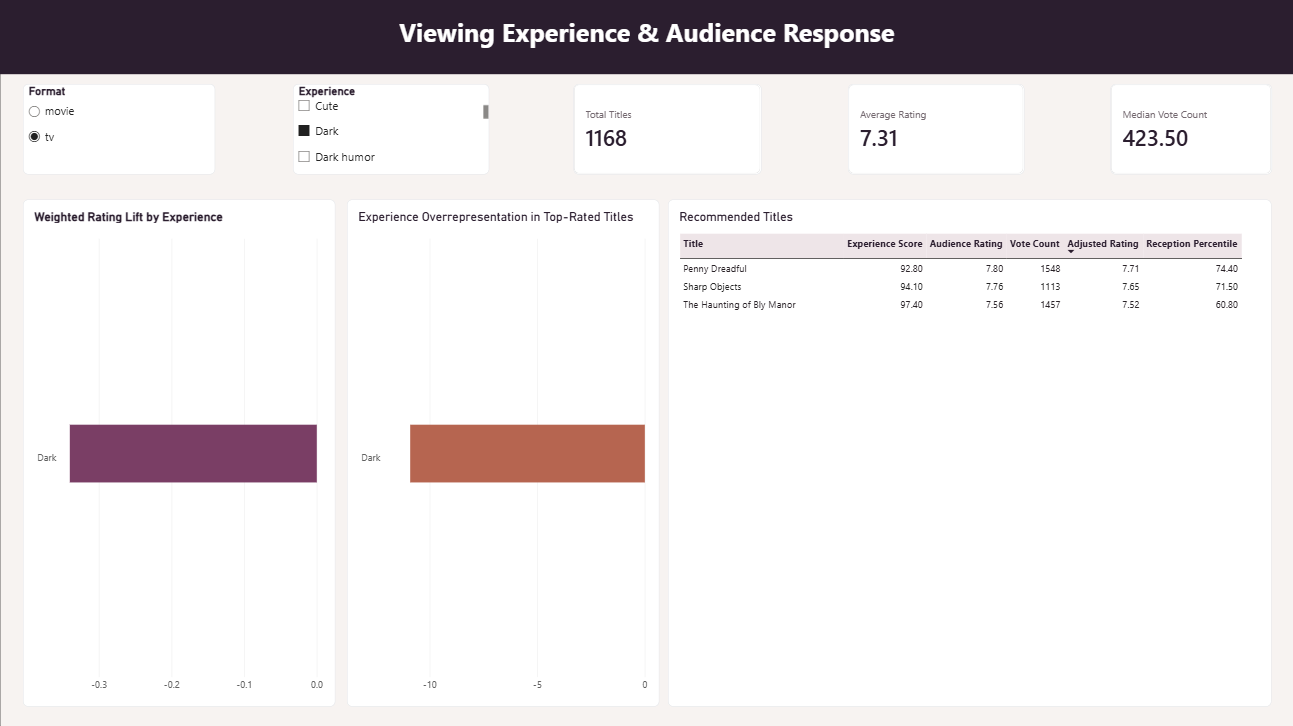

The page's visual inventory and layout, read from the dashboard file:
{"tool":"powerbi","page":{"name":"Audience Response","canvas":[1920,1080],"ordinal":0},"visuals":[{"type":"shape","box":[0,0,1918.2,109.9],"z":0},{"type":"slicer","fields":{"Values":["Media Type.media_type"]},"box":[36.5,124,284.5,134.2],"z":1000},{"type":"slicer","fields":{"Values":["Experience.experience"]},"box":[434.8,124,290.3,134.2],"z":2000},{"type":"cardVisual","fields":{"Data":["Metrics.Total Titles"]},"box":[852,124,278.7,134.2],"z":3000},{"type":"cardVisual","fields":{"Data":["Metrics.Average Rating"]},"box":[1257.6,124,261.2,134.2],"z":4000},{"type":"cardVisual","fields":{"Data":["Metrics.Median Vote Count"]},"box":[1645.7,124,239.3,134.2],"z":5000},{"type":"clusteredBarChart","title":"Weighted Rating Lift by Experience","fields":{"Category":["Experience.experience"],"Y":["Metrics.Weighted Rating Lift"]},"box":[36.5,296.2,462.5,751.4],"z":6000},{"type":"clusteredBarChart","title":"Experience Overrepresentation in Top-Rated Titles","fields":{"Category":["Experience.experience"],"Y":["Metrics.Overrepresentation"]},"box":[514.7,296.6,462.5,751.4],"z":7000},{"type":"tableEx","title":"Recommended Titles","fields":{"Values":["recommendations.title","Metrics.Recommended Experience Score","Metrics.Recommended Audience Rating","Metrics.Recommended Vote Count","Metrics.Recommended Adjusted Rating","Metrics.Recommended Reception Percentile"]},"box":[990.9,296.6,893.8,751.5],"z":8000},{"type":"textbox","box":[36.5,21.9,1848.5,86.1],"z":9000}]}

Visuals, with their boxes in screenshot pixels (x1, y1, x2, y2), scaled from the page's 1920x1080 canvas onto the 1293x726 screenshot:
shape: [left=0, top=0, right=1292, bottom=74]
slicer - Media Type.media_type: [left=25, top=83, right=216, bottom=174]
slicer - Experience.experience: [left=293, top=83, right=488, bottom=174]
cardVisual - Metrics.Total Titles: [left=574, top=83, right=761, bottom=174]
cardVisual - Metrics.Average Rating: [left=847, top=83, right=1023, bottom=174]
cardVisual - Metrics.Median Vote Count: [left=1108, top=83, right=1269, bottom=174]
"Weighted Rating Lift by Experience" clusteredBarChart: [left=25, top=199, right=336, bottom=704]
"Experience Overrepresentation in Top-Rated Titles" clusteredBarChart: [left=347, top=199, right=658, bottom=704]
"Recommended Titles" tableEx: [left=667, top=199, right=1269, bottom=705]
textbox: [left=25, top=15, right=1269, bottom=73]
